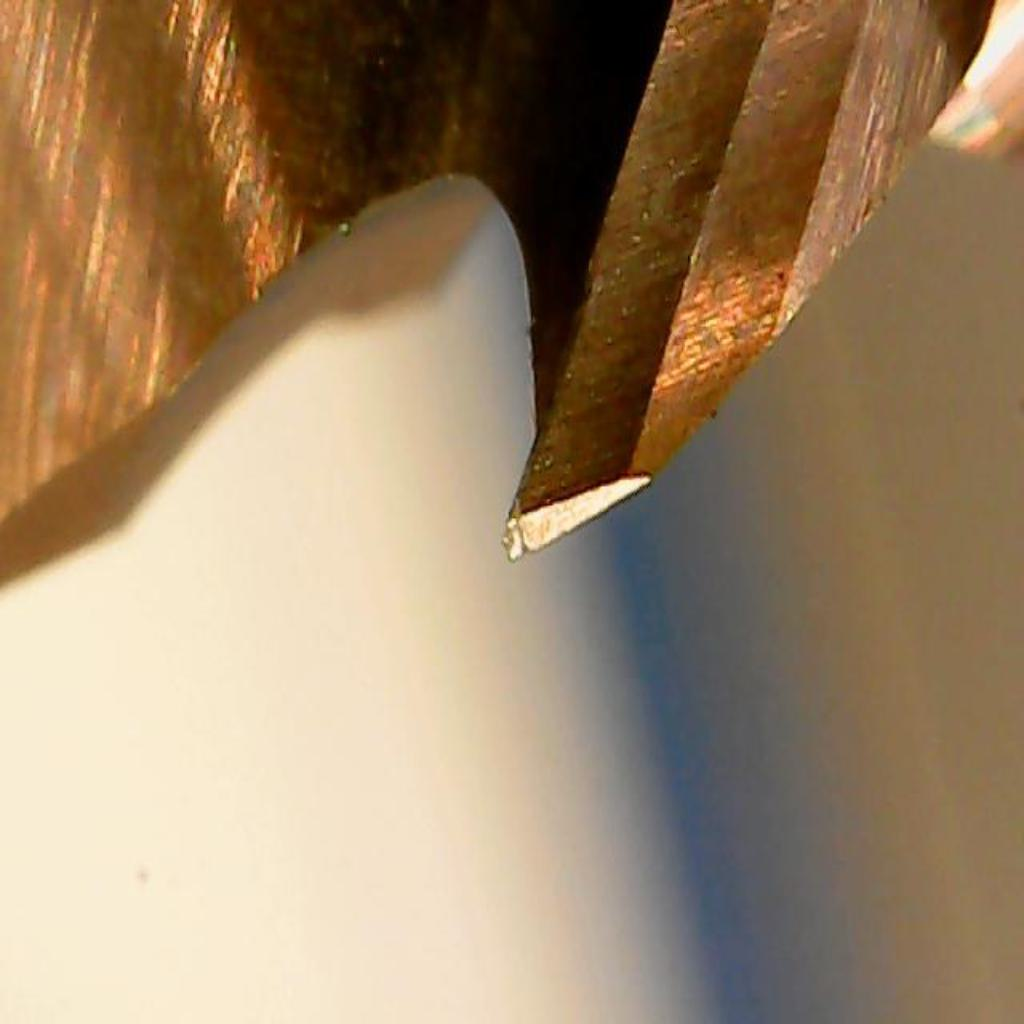Tool-wear-class-1: (487, 123, 762, 606)
